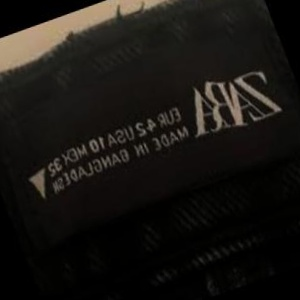zara: (105, 15, 300, 117)
